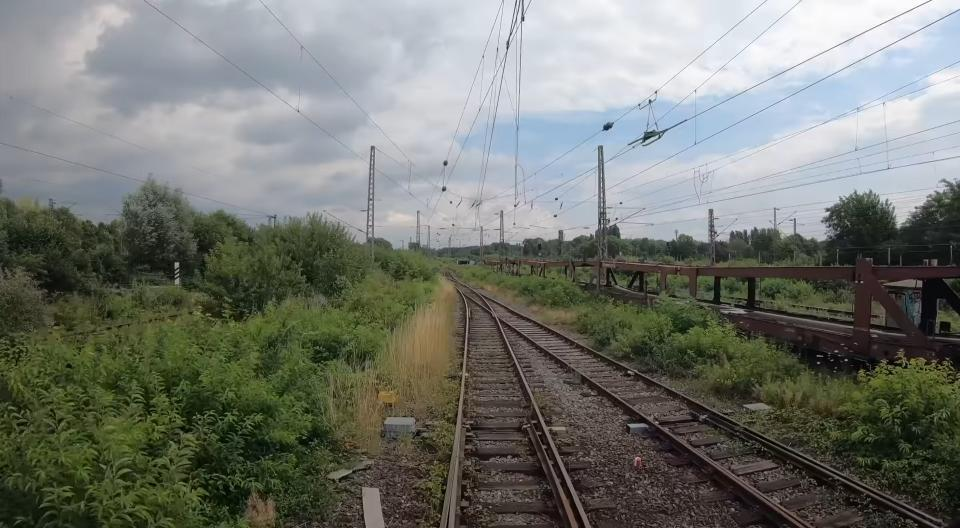Plant: (465, 270, 960, 517), (318, 283, 460, 477), (413, 462, 448, 528)
